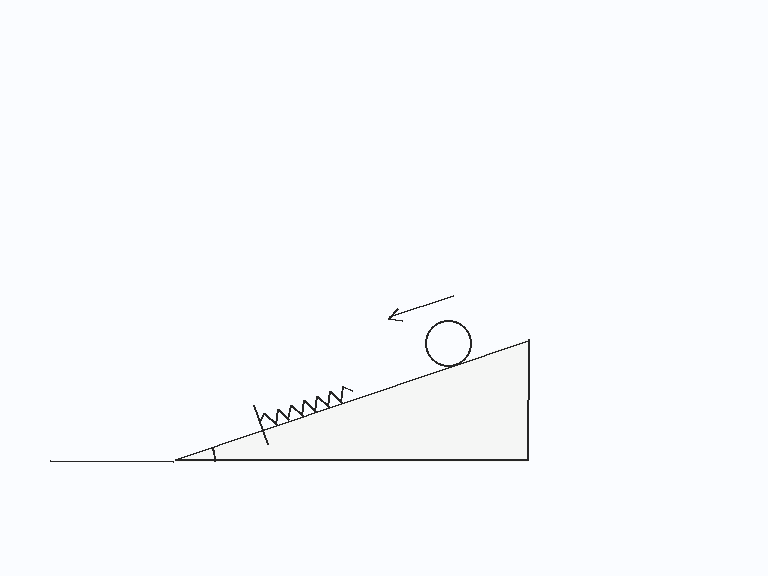ball: (423, 318, 473, 368)
ramp: (173, 338, 530, 463)
spring: (258, 384, 354, 426)
